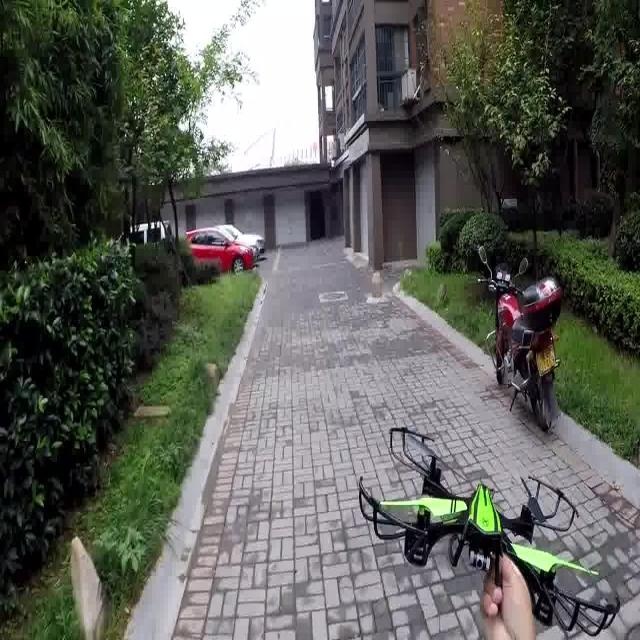drones: (354, 419, 624, 640)
